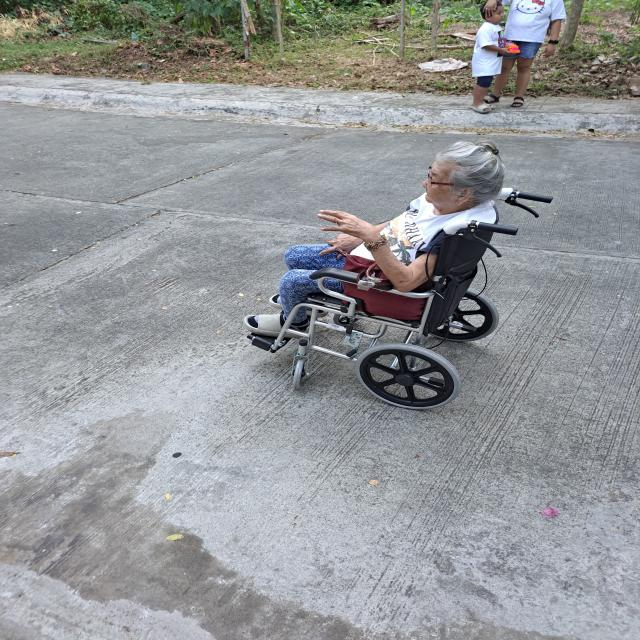wheelchairs: (248, 186, 559, 420)
